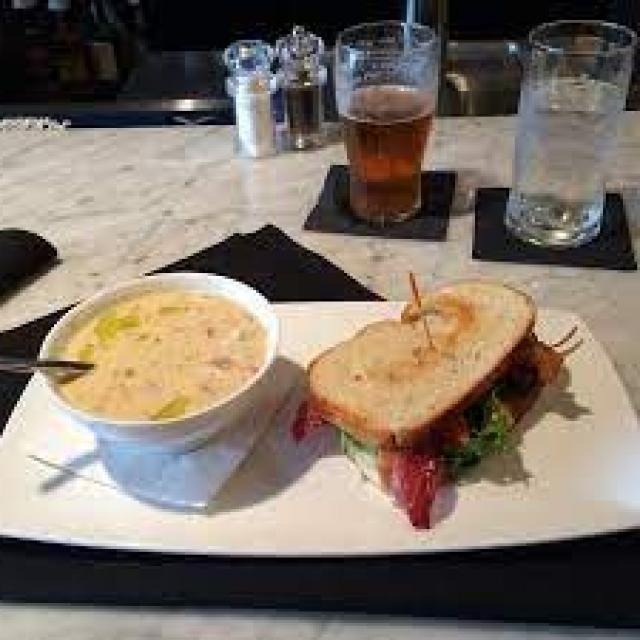Sandwich: (276, 258, 597, 538)
